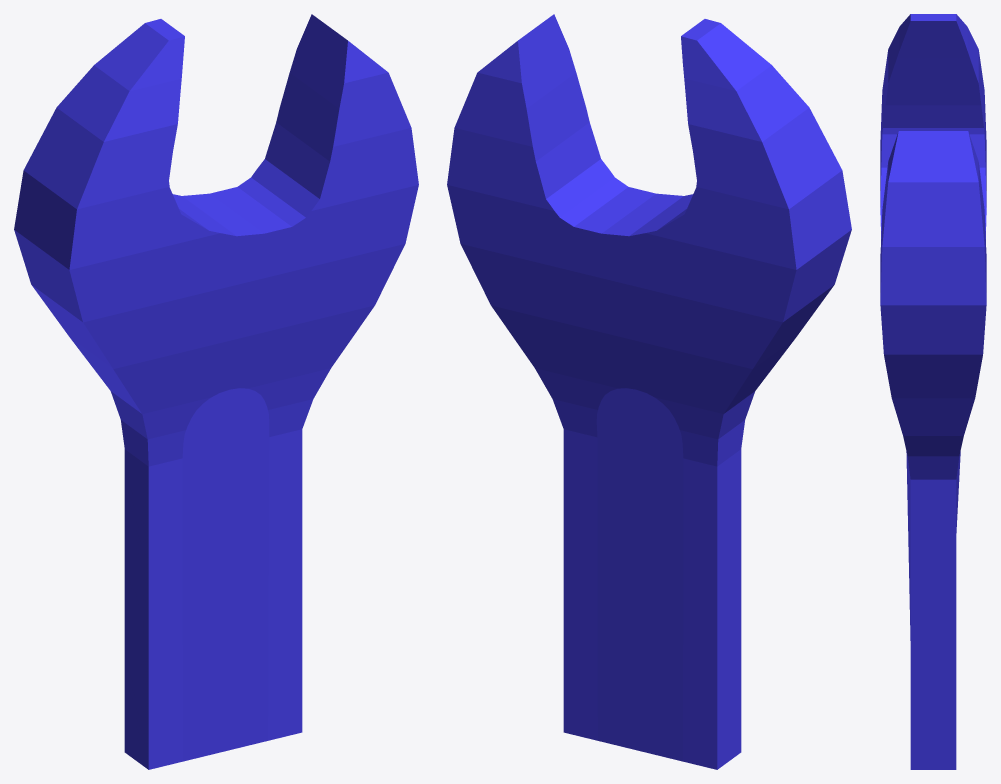
The model's file is llave.glb.
3 renders of one model, left to right at view 1: azimuth 30°, elevation 25°; view 2: azimuth 150°, elevation 25°; view 3: azimuth 270°, elevation 25°, orthographic. The views are drawn at different scales.
Parts seen in each view (by area): view 1: Cube; view 2: Cube; view 3: Cube.
Part boxes in pixels (x1,y1,x2,y2): Cube: (14,14,418,769); Cube: (447,14,851,769); Cube: (880,14,986,769).
Bounding box in the file's own units: 1.42 × 2.81 × 0.3901.
